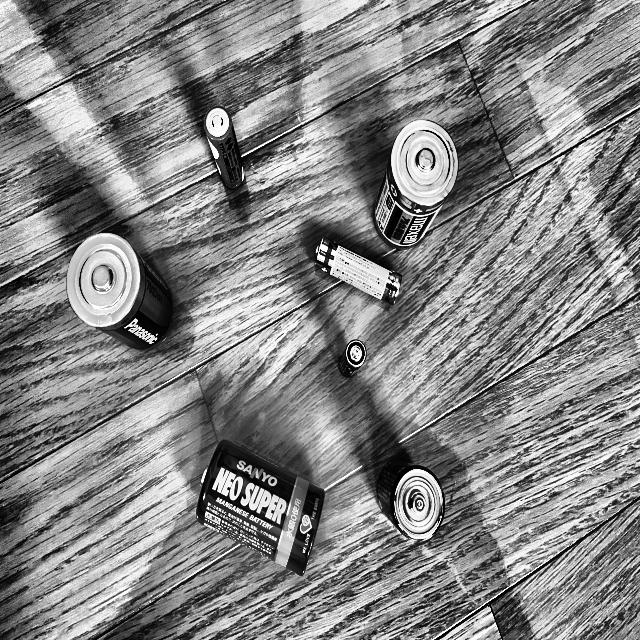drycell: (64, 229, 178, 356), (201, 101, 250, 195)
